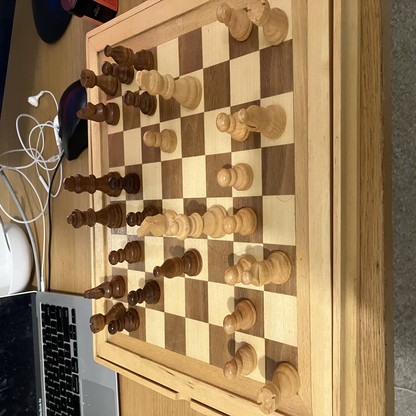bishop_black: (153, 250, 202, 279), (105, 45, 154, 71)
bishop_white: (242, 252, 292, 286), (239, 104, 287, 139)
king_black: (63, 171, 121, 196)
king_white: (136, 69, 202, 110)
knight_black: (77, 102, 120, 125), (83, 277, 125, 298)
knight_white: (136, 210, 176, 237)
pawn_black: (122, 92, 157, 116), (108, 308, 140, 333), (127, 281, 160, 304), (108, 240, 142, 262), (102, 62, 135, 84), (109, 174, 141, 195), (126, 206, 158, 225)
pawn_white: (217, 3, 253, 42), (223, 299, 256, 334), (225, 344, 257, 379), (217, 163, 254, 191), (217, 111, 249, 141), (225, 255, 257, 285), (224, 208, 258, 236), (143, 129, 177, 154)
queen_black: (66, 203, 126, 229)
queen_white: (171, 205, 228, 239)
rock_black: (89, 303, 125, 333), (81, 70, 121, 96)
rock_white: (257, 362, 300, 413), (247, 0, 289, 45)
